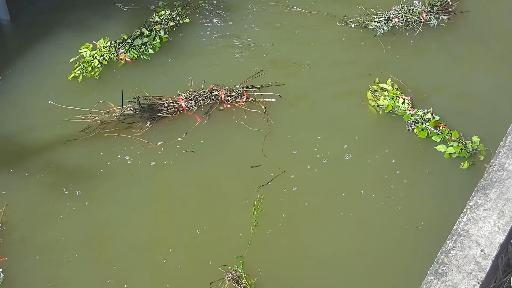twig: (61, 72, 275, 145), (364, 62, 482, 182), (72, 0, 208, 87), (215, 189, 277, 288), (354, 0, 476, 46)
